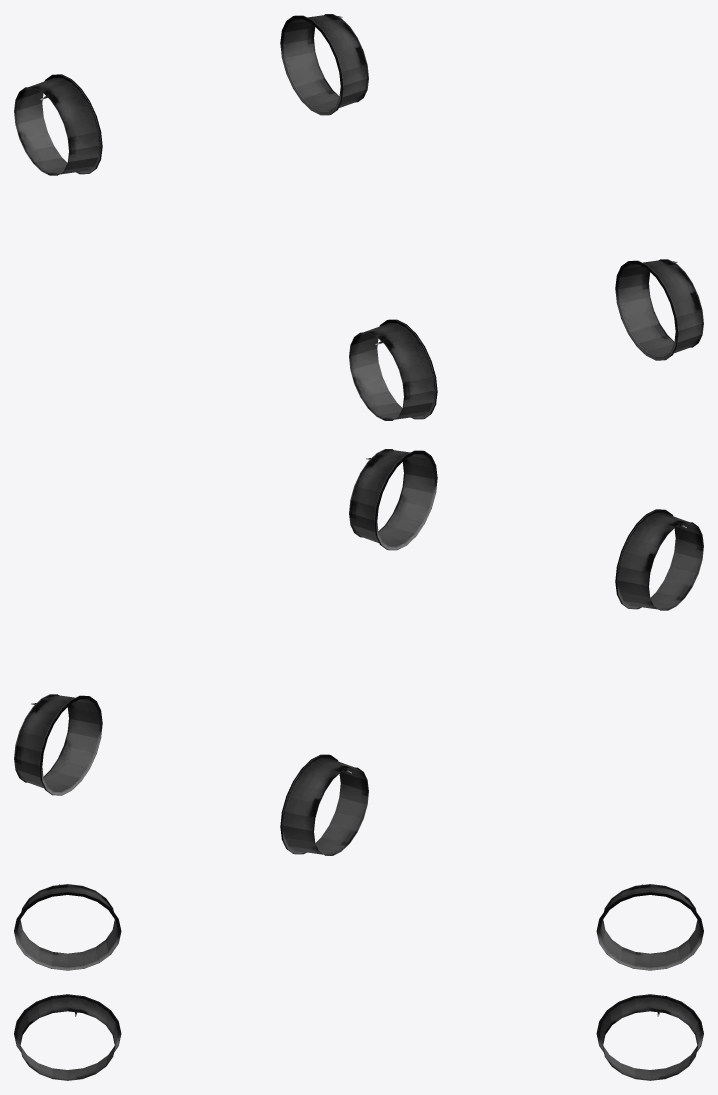
The model's file is rim.glb.
The picture shows the model from 3 angles, top to bottom: view 1: azimuth 30°, elevation 25°; view 2: azimuth 150°, elevation 25°; view 3: azimuth 270°, elevation 25°; orthographic projection. The views are drawn at different scales.
Parts seen in each view (by area): view 1: rim; view 2: rim; view 3: rim.
Part boxes in pixels (x1=…): rim: x1=14, y1=14, x2=703, y2=420; rim: x1=14, y1=449, x2=703, y2=855; rim: x1=14, y1=884, x2=703, y2=1080.
Size of the model in its own units: 1.6 by 0.4412 by 3.53.
Materials: 1 (1 with a texture image).
